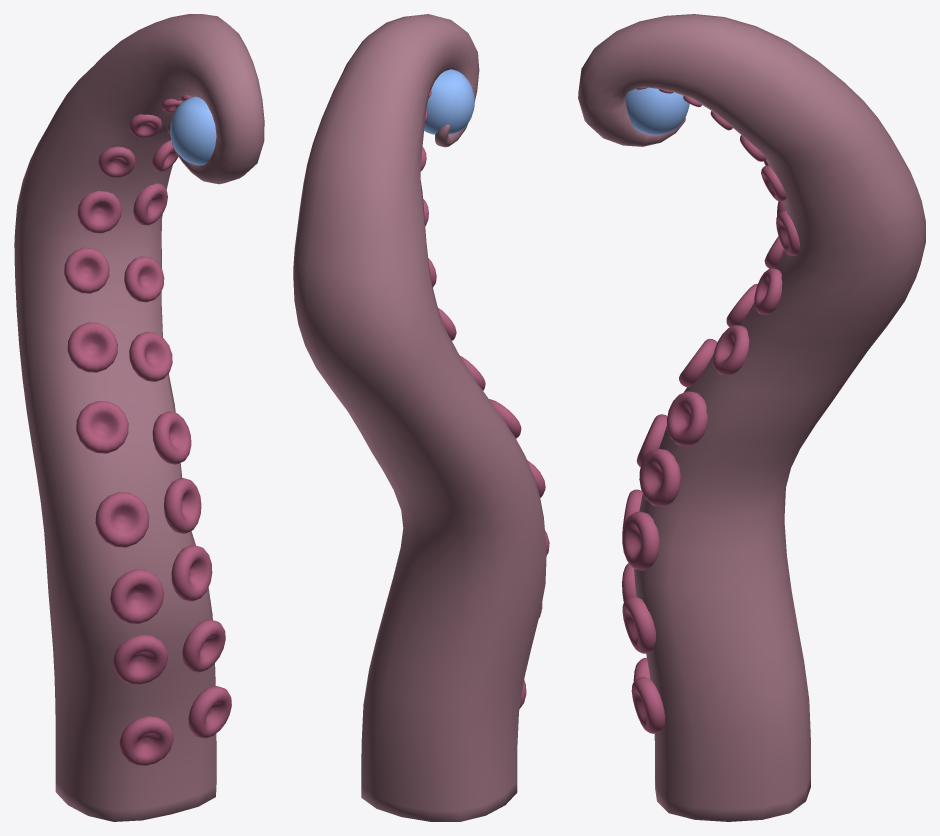
Rendered from Tentaculo_text.fbx.
3 renders of one model, left to right at view 1: azimuth 30°, elevation 25°; view 2: azimuth 150°, elevation 25°; view 3: azimuth 270°, elevation 25°, orthographic. The views are drawn at different scales.
Parts seen in each view (by area): view 1: tentaculo, pSphere1, pTorus6, pTorus4, pTorus10, pTorus2, pTorus8, pTorus13, pTorus5, pTorus3, pTorus12, pTorus9 (+9 smaller); view 2: tentaculo, pSphere1; view 3: tentaculo, pSphere1, pTorus7, pTorus11, pTorus5, pTorus12, pTorus3, pTorus9, pTorus14, pTorus10, pTorus16, pTorus6.
Part boxes in pixels (x1,y1,x2,y2): tentaculo: (14,14,264,821); pSphere1: (170,96,216,165); pTorus6: (95,492,149,547); pTorus4: (110,569,164,624); pTorus10: (76,401,128,453); pTorus2: (113,635,167,684); pTorus8: (119,716,173,765); pTorus13: (67,322,117,372); pTorus5: (171,545,212,601); pTorus3: (182,619,225,672); pTorus12: (129,331,172,381); pTorus9: (188,686,231,738); tentaculo: (293,14,546,821); pSphere1: (424,69,474,134); tentaculo: (578,14,925,821); pSphere1: (625,87,689,134); pTorus7: (639,448,680,506); pTorus11: (667,391,707,446); pTorus5: (622,511,659,570); pTorus12: (713,325,749,375); pTorus3: (622,596,655,653); pTorus9: (631,677,665,733); pTorus14: (754,268,782,315); pTorus10: (679,338,717,387); pTorus16: (776,210,799,255); pTorus6: (636,414,667,466).
Bounding box in the file's own units: 723 × 2902 × 1145.
